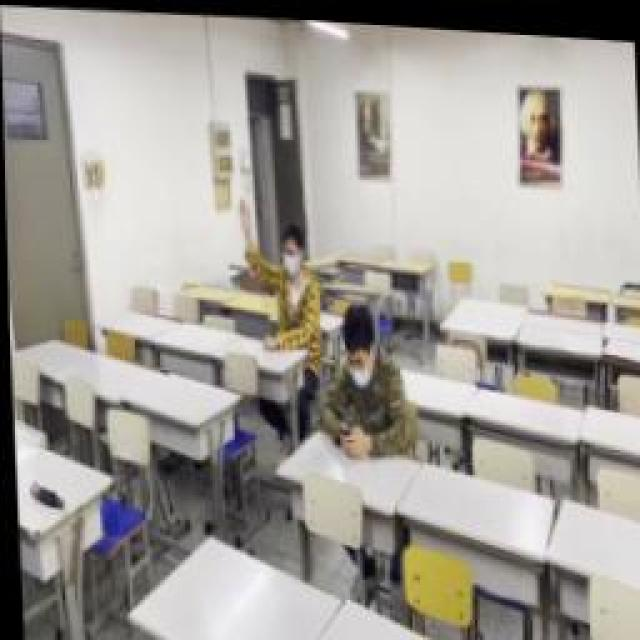phone: (318, 300, 408, 455)
study: (235, 192, 320, 350)
